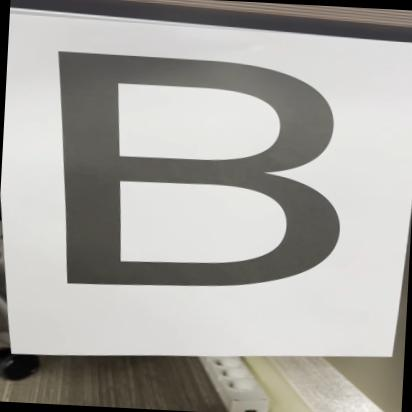seat: (32, 34, 358, 301)
